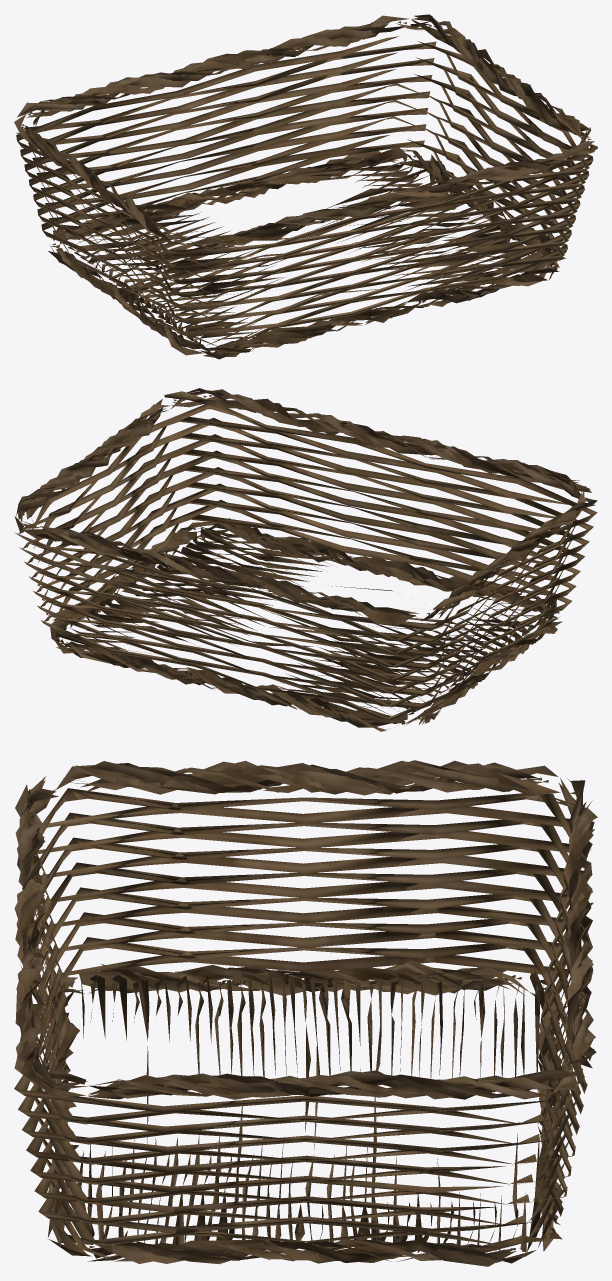
File: ph_basket.glb
3 views of the same model, one above another, from view 1: azimuth 30°, elevation 25°; view 2: azimuth 150°, elevation 25°; view 3: azimuth 270°, elevation 25° (orthographic). The views are drawn at different scales.
Visible parts, largest first — view 1: wicker_basket_01; view 2: wicker_basket_01; view 3: wicker_basket_01.
Boxes of the visible parts, x1=… form: wicker_basket_01: x1=14, y1=14, x2=597, y2=359; wicker_basket_01: x1=14, y1=388, x2=597, y2=731; wicker_basket_01: x1=14, y1=760, x2=597, y2=1266.
Bounding box in the file's own units: 0.3837 × 0.1185 × 0.2933.
Materials: 1 (1 with a texture image).
